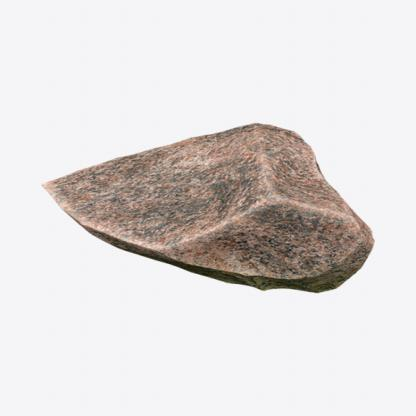Igneous_Granite: (38, 111, 374, 298)
